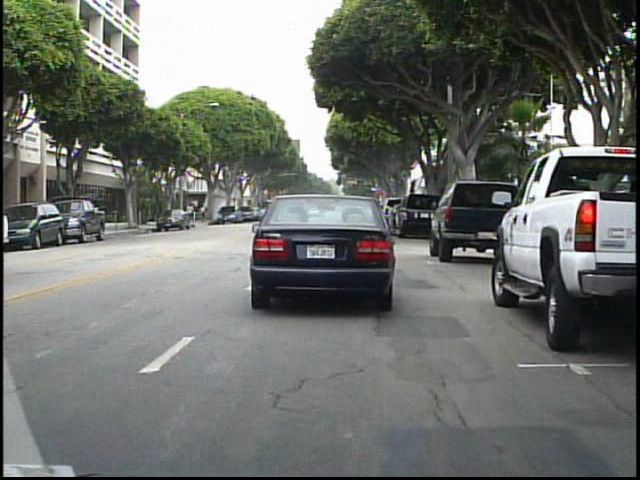person: (184, 202, 196, 227), (198, 201, 209, 226)
